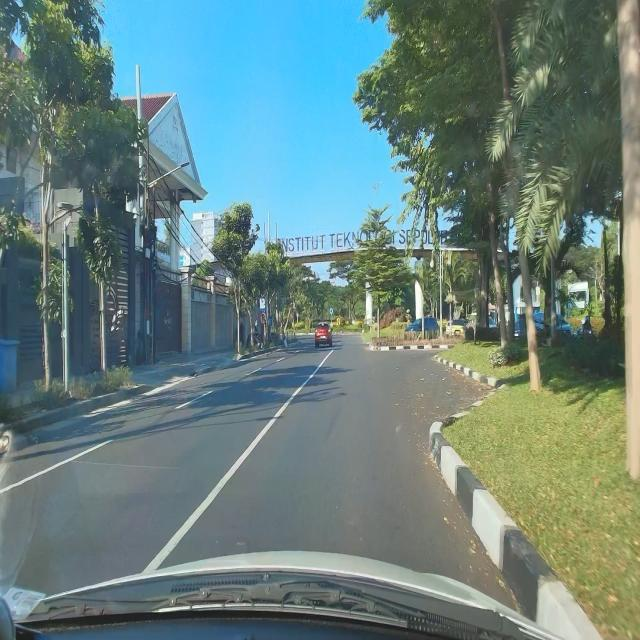car: (315, 321, 333, 349)
